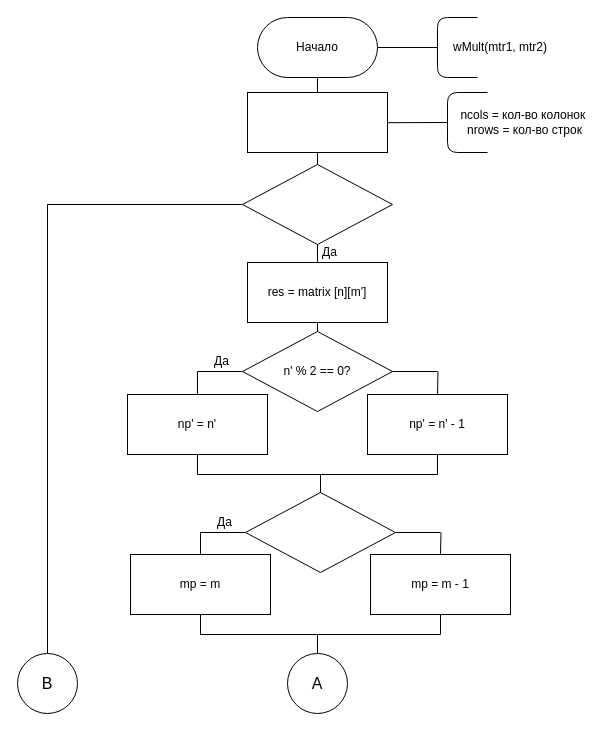
The diagram is 608 pixels wide and 731 high, and some of its shapes have lost their labels. The shapes that lost their labels are listed below. From the top down, each one's centre as x and y in pixels, then its label:
At point (317, 122): "n = nrows mtr1 n' = ncols mtr1 m = nrows mtr2 m' = ncols mtr2".
At point (317, 204): "n == m?".
At point (320, 532): "m % 2 == 0?".
